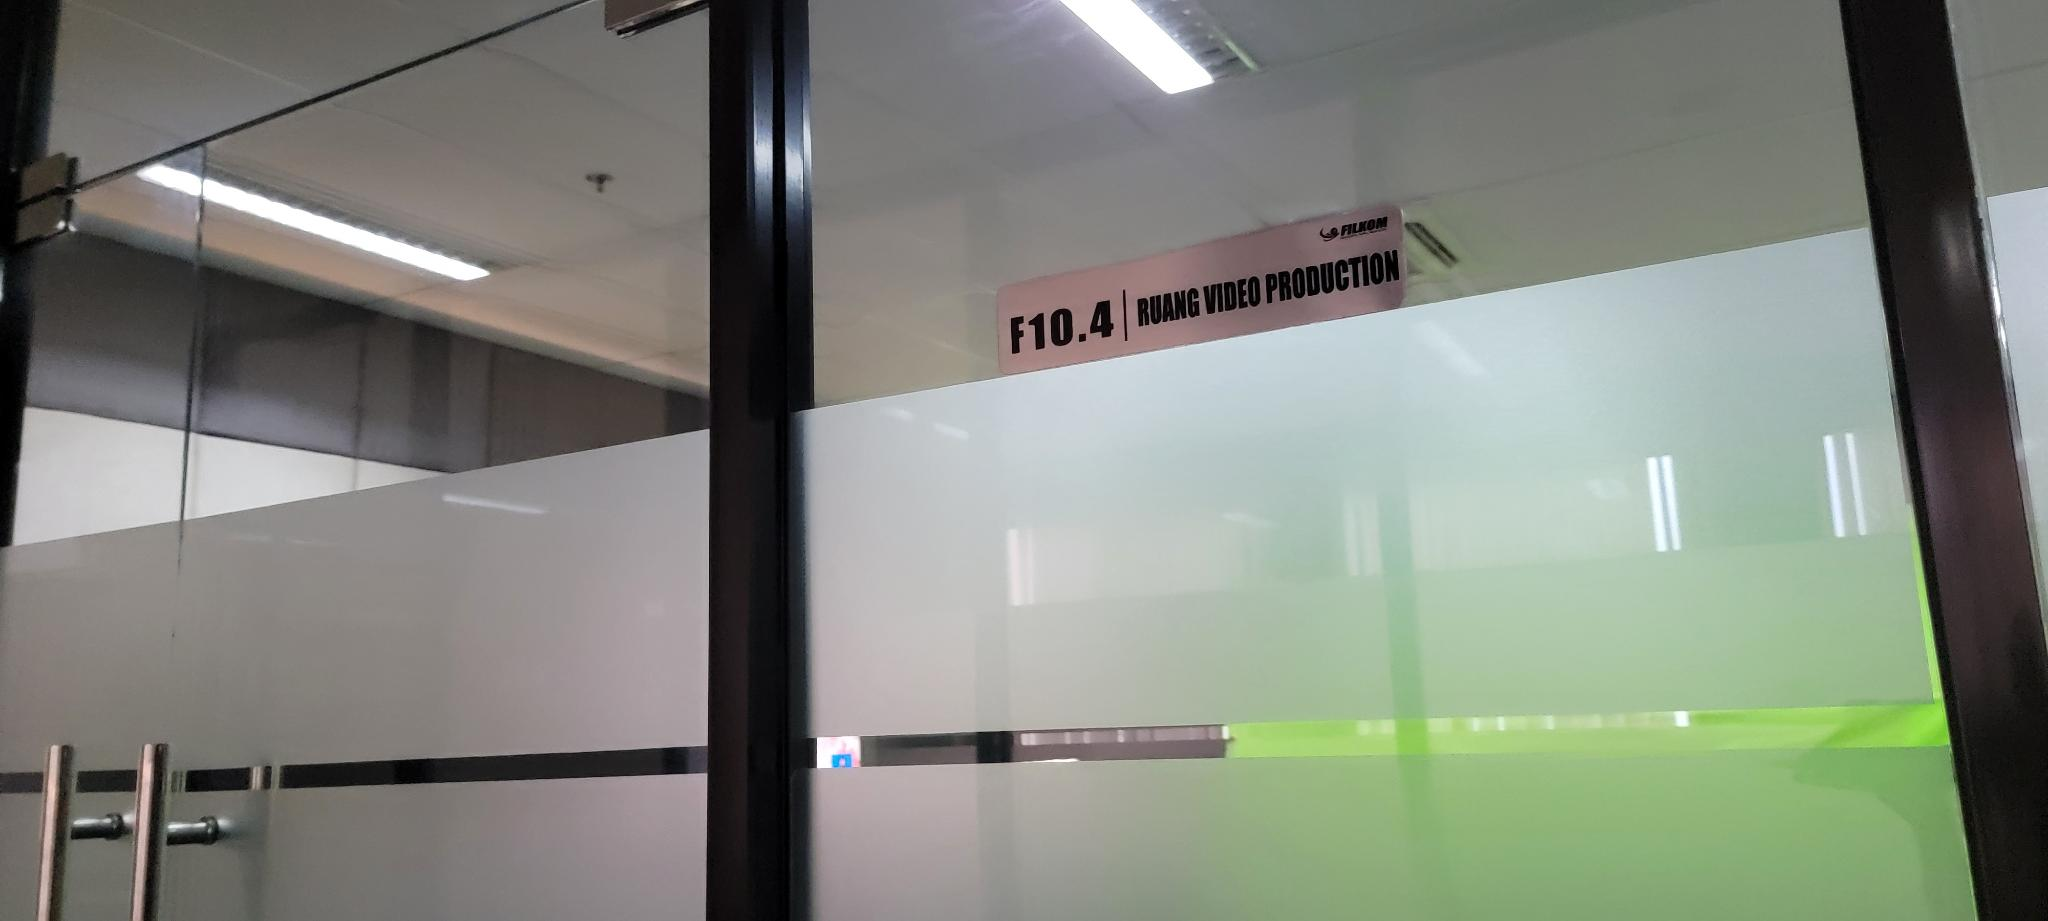plate: (991, 197, 1408, 376)
